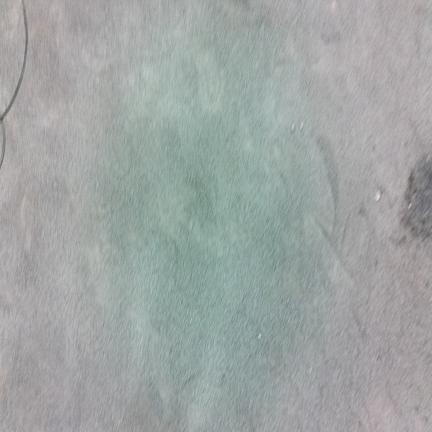Rock: (375, 190, 381, 201), (291, 123, 295, 132), (300, 122, 304, 130)
